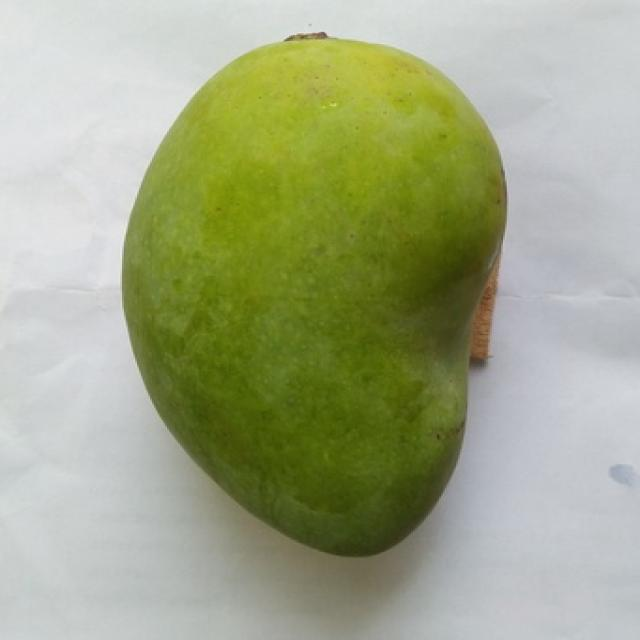Mango: (122, 38, 503, 555)
